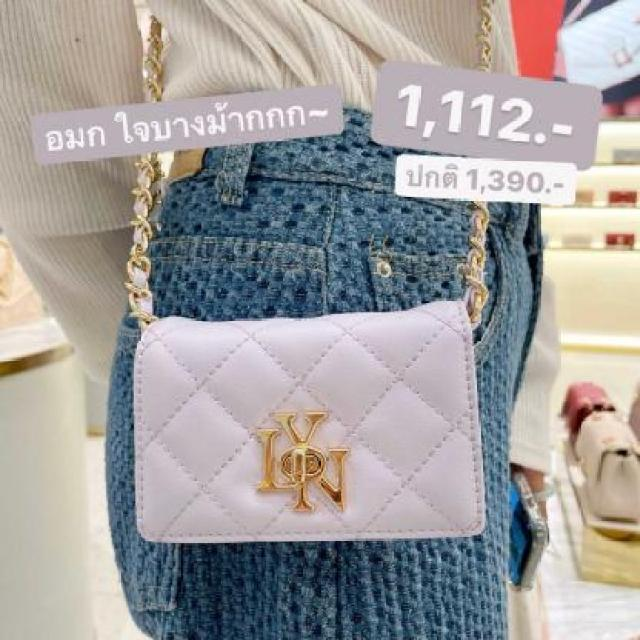Bag: (107, 0, 538, 569)
